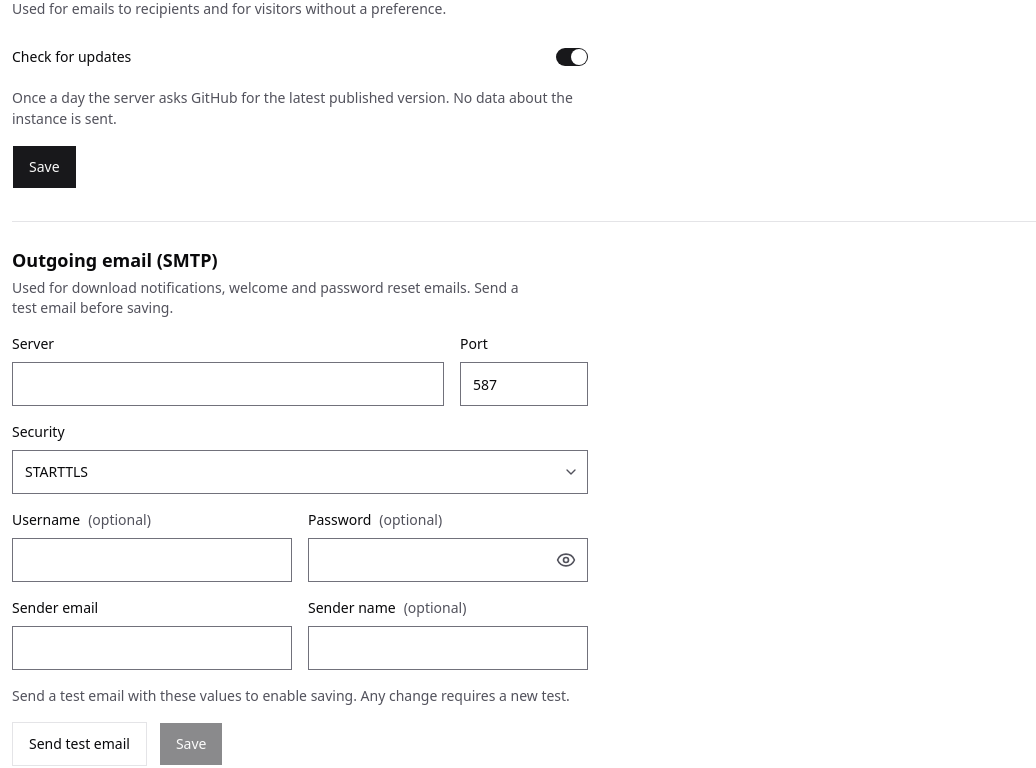
Scenario: SettingsPage › shows a rate limit error from the test
(page scrolled)
Type "smtp.example.com" into the field labelled "Server" at [228, 384], box [12,362,444,406]
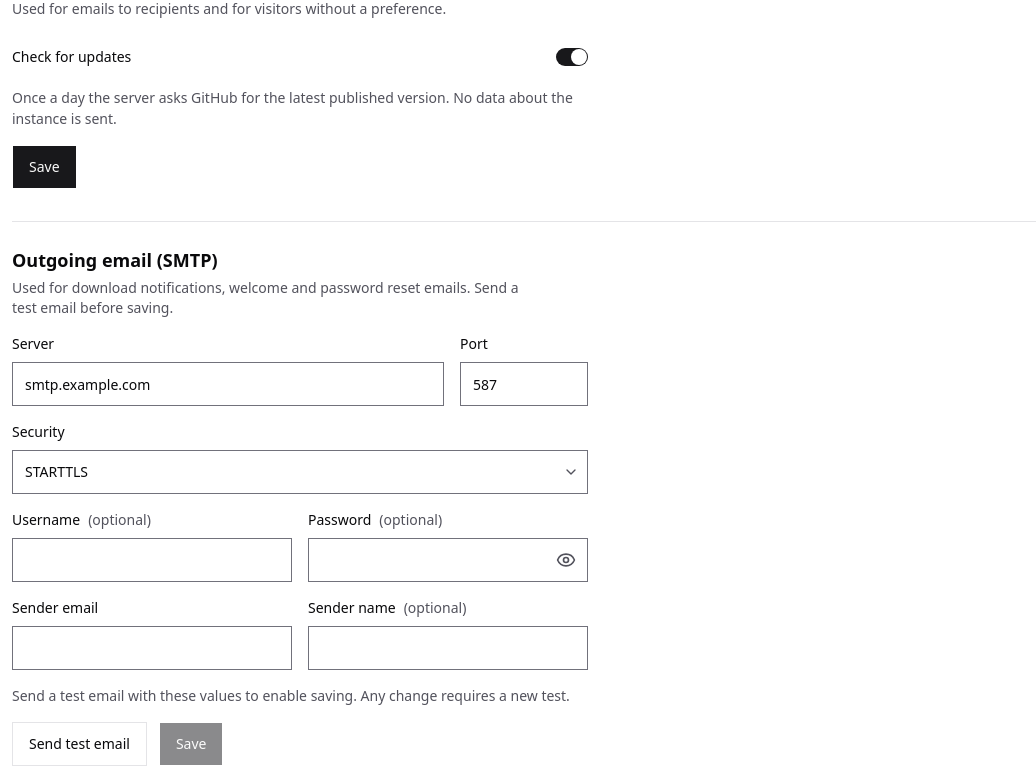
Type "noreply@example.com" into the field labelled "Sender email" at [152, 648], box [12,626,292,670]
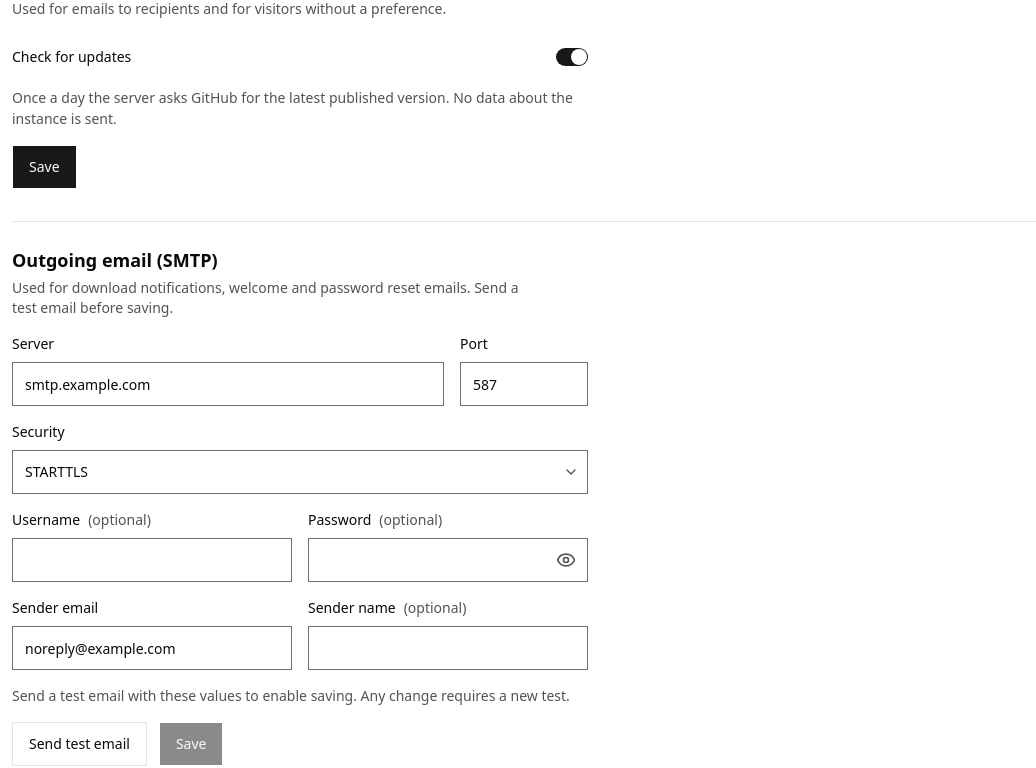
Click the button "Send test email" at [79, 744], box [12,722,147,766]
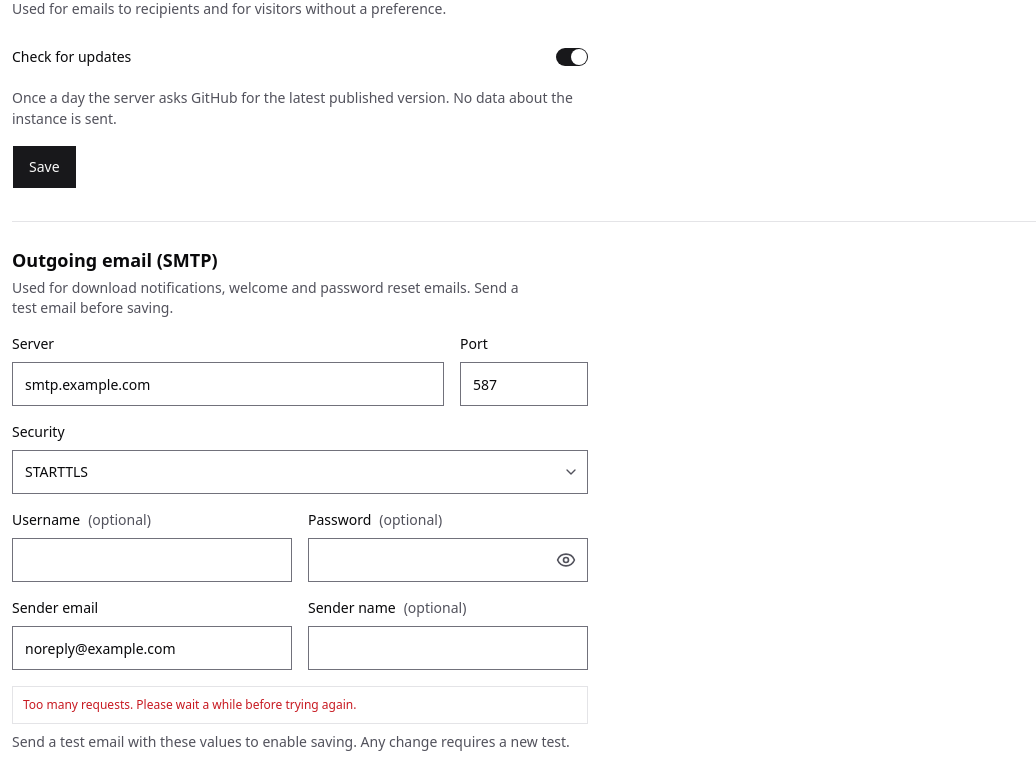
Result: the text "Too many requests. Please wait a while before trying again." is shown at [23,696,356,713]
